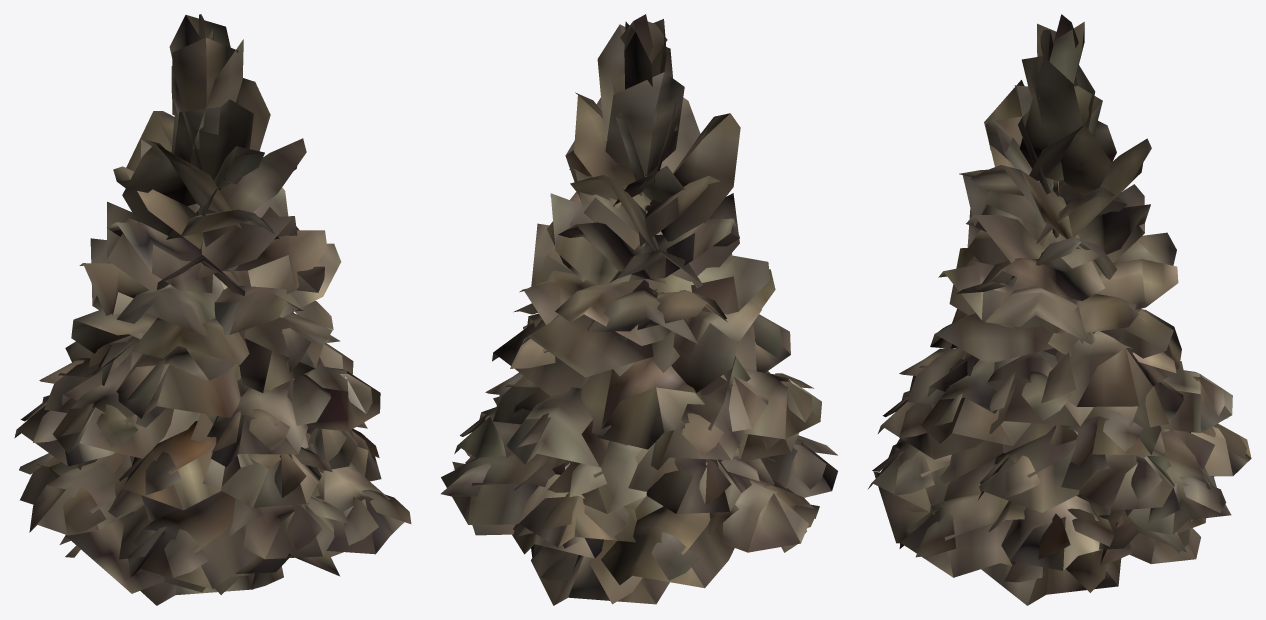
File: tree.obj
The picture shows the model from 3 angles, left to right: view 1: azimuth 30°, elevation 25°; view 2: azimuth 150°, elevation 25°; view 3: azimuth 270°, elevation 25°; orthographic projection. The views are drawn at different scales.
Parts seen in each view (by area): view 1: treeBranches2; view 2: treeBranches2; view 3: treeBranches2.
Part boxes in pixels (<box>): treeBranches2: <box>14,14,411,605</box>; treeBranches2: <box>441,14,837,605</box>; treeBranches2: <box>868,14,1251,605</box>.
Size of the model in its own units: 0.087 by 0.1359 by 0.0874.
2 materials, 2 textured.
